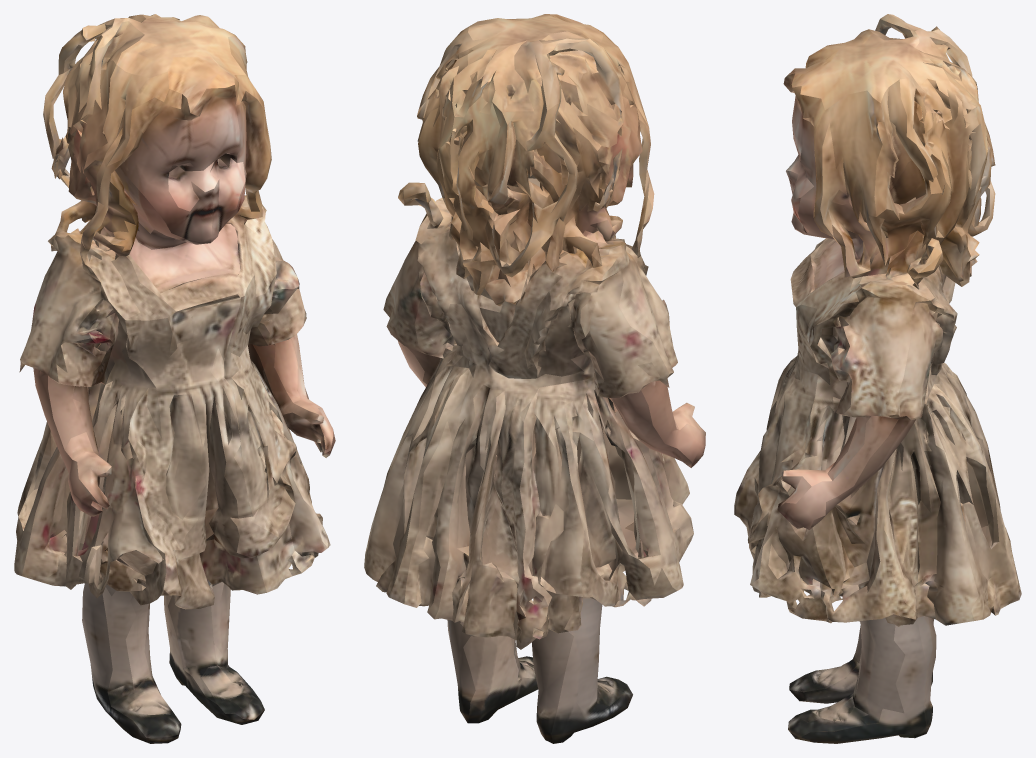
File: charge_doll.glb
3 renders of one model, left to right at view 1: azimuth 30°, elevation 25°; view 2: azimuth 150°, elevation 25°; view 3: azimuth 270°, elevation 25°, orthographic. The views are drawn at different scales.
Parts seen in each view (by area): view 1: geometry_0; view 2: geometry_0; view 3: geometry_0.
Boxes of the visible parts, x1,y1,x2,y2 form: geometry_0: (14,14,335,743); geometry_0: (364,14,705,743); geometry_0: (734,14,1021,743).
Size of the model in its own units: 0.1713 by 0.38 by 0.1468.
Materials: 1 (1 with a texture image).
